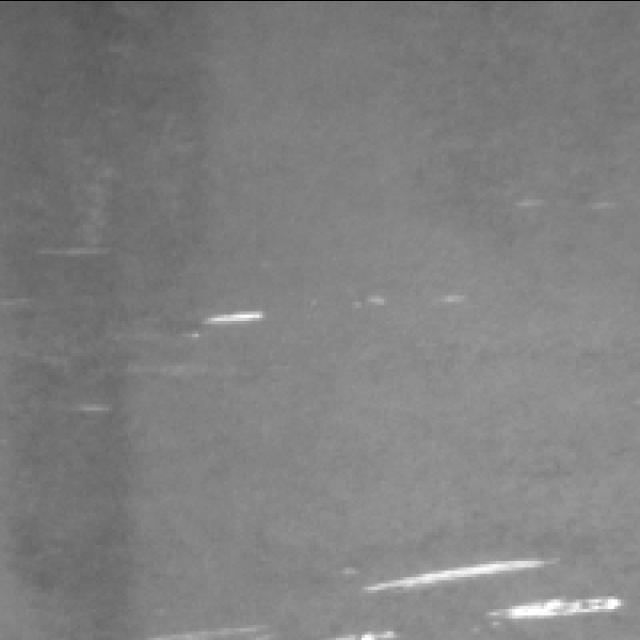scratches: (492, 593, 626, 627), (363, 566, 528, 591), (173, 621, 295, 640), (204, 305, 273, 329)
